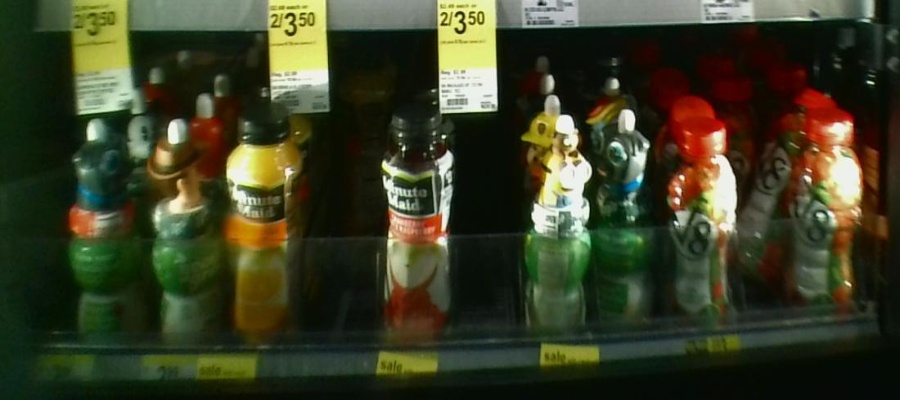bottle: (224, 100, 300, 356), (381, 102, 457, 354), (66, 120, 146, 354), (659, 115, 741, 330), (148, 119, 219, 360), (527, 109, 595, 349), (598, 100, 655, 334), (799, 99, 861, 313), (746, 104, 797, 283)
